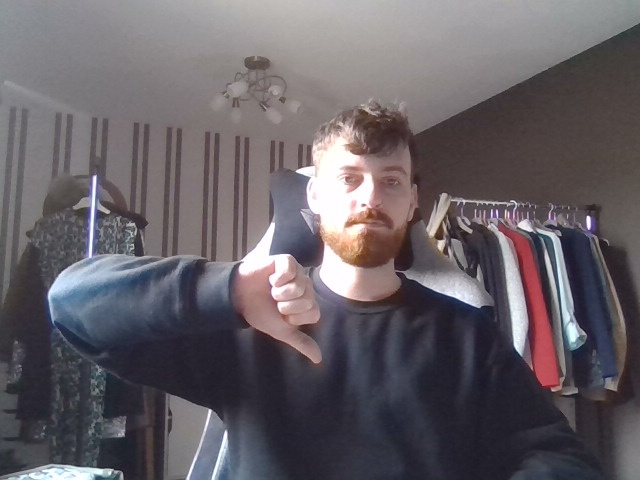Thumbs Down: (230, 244, 334, 381)
